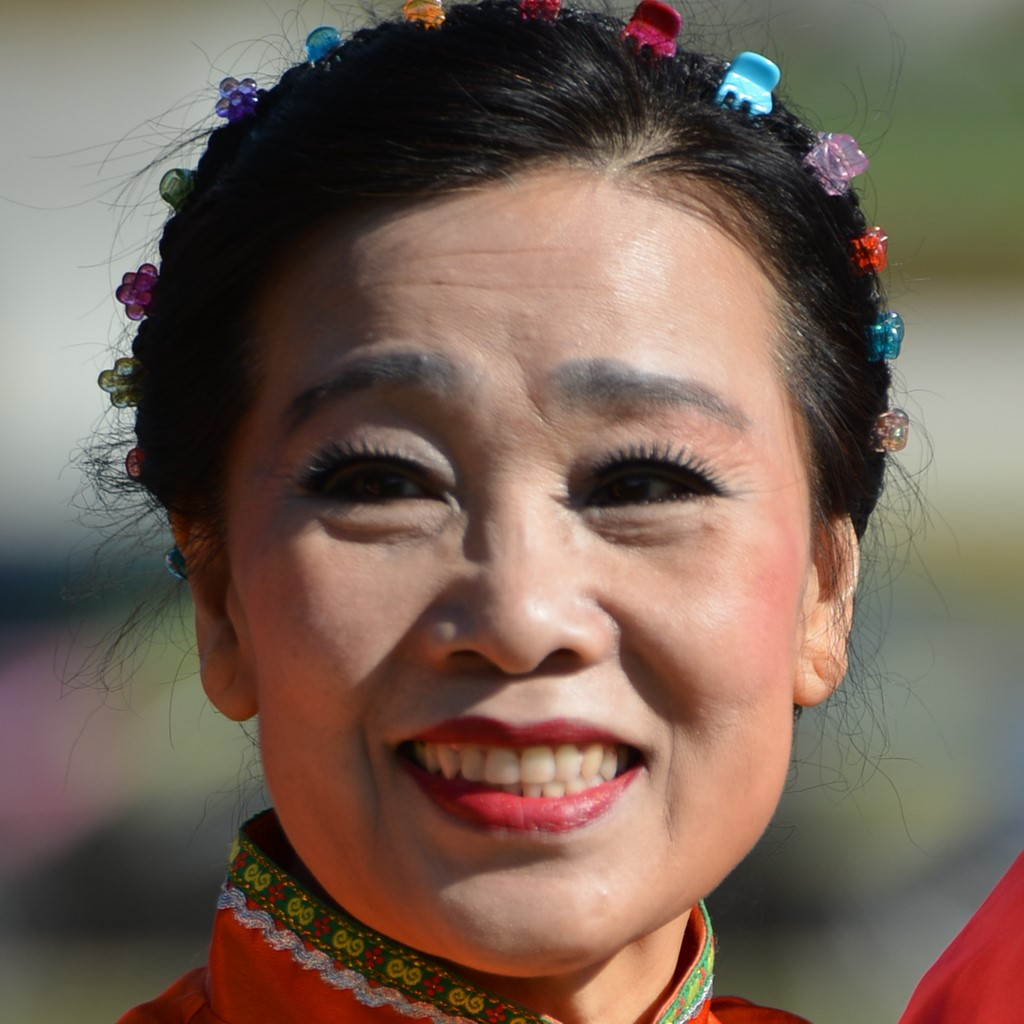sin_mascara: (197, 139, 828, 954)
